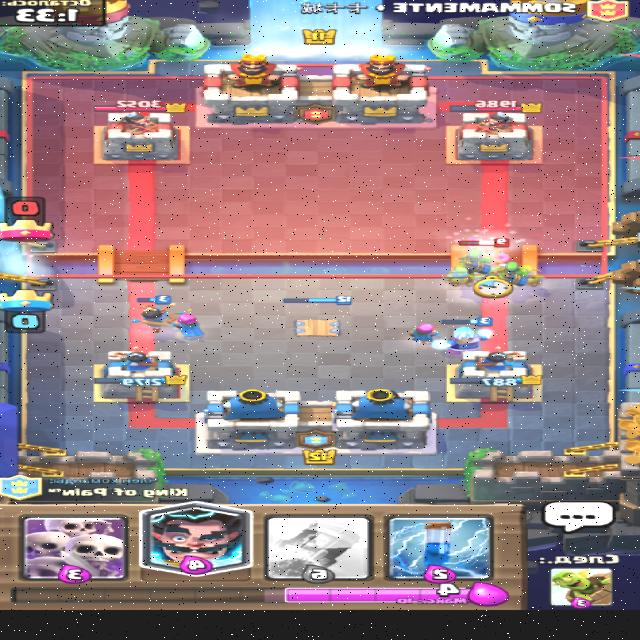Player-Archer: (170, 308, 208, 338), (409, 323, 443, 344)
Player-Goblin: (442, 267, 479, 286)
Player-IceWizard: (429, 316, 497, 355)
Player-Princess: (130, 294, 178, 332)
Player-SpearGoblin: (494, 260, 532, 286), (459, 248, 496, 273)
Player-Tesla-Hidden: (282, 293, 357, 337)
